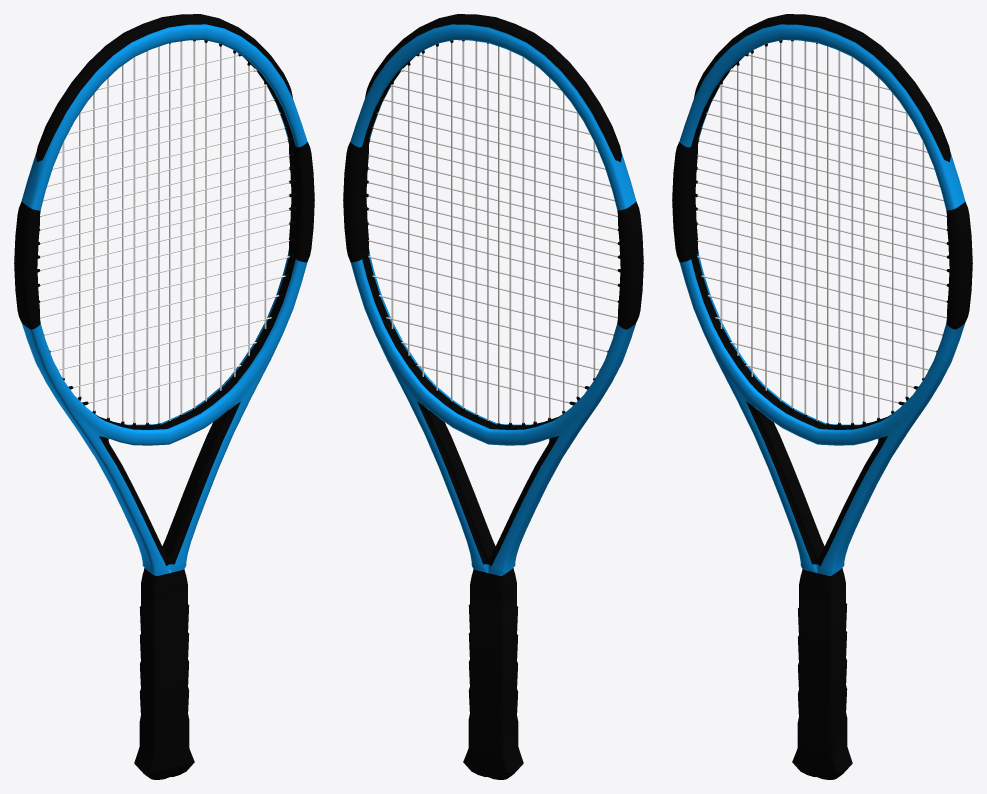
The model's file is tennisracket.glb.
3 renders of one model, left to right at view 1: azimuth 30°, elevation 25°; view 2: azimuth 150°, elevation 25°; view 3: azimuth 330°, elevation 25°, orthographic.
Parts seen in each view (by area): view 1: Tennis Racket; view 2: Tennis Racket; view 3: Tennis Racket.
Part boxes in pixels (x1,y1,x2,y2): Tennis Racket: [14, 14, 314, 779]; Tennis Racket: [343, 14, 643, 779]; Tennis Racket: [672, 14, 972, 779].
Bounding box in the file's own units: 7.09 × 17.55 × 0.6389.
